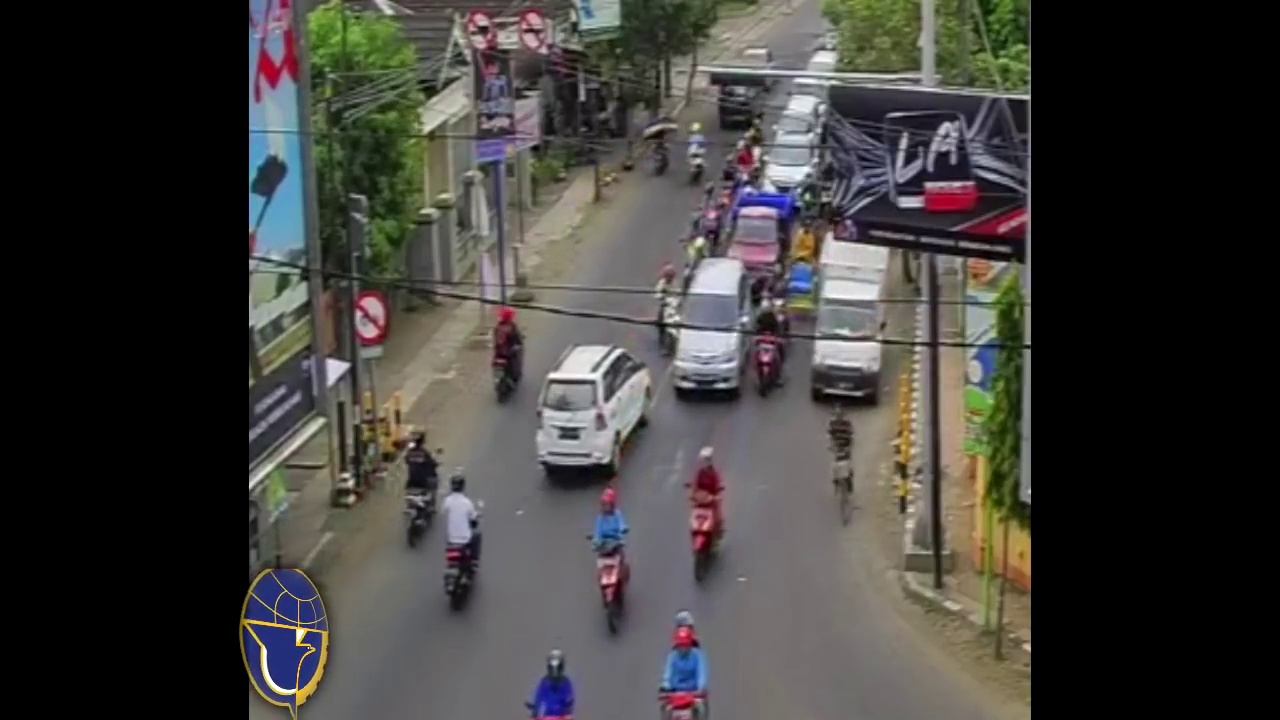car: (541, 347, 654, 482), (819, 232, 886, 414), (677, 254, 745, 402), (732, 206, 788, 289), (760, 134, 820, 210)
motorbike: (590, 490, 634, 641), (444, 468, 482, 611), (660, 615, 708, 720), (691, 444, 726, 583), (403, 430, 440, 546), (493, 310, 526, 401), (754, 298, 781, 397), (659, 270, 680, 355), (687, 125, 706, 183), (652, 126, 670, 178)
